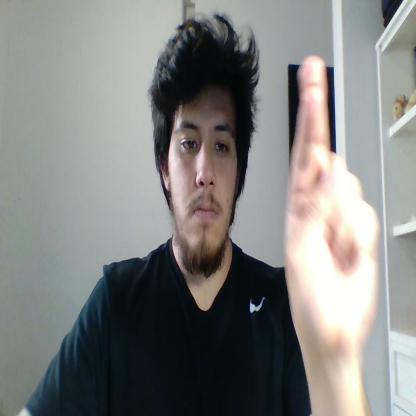R: (284, 57, 380, 348)
